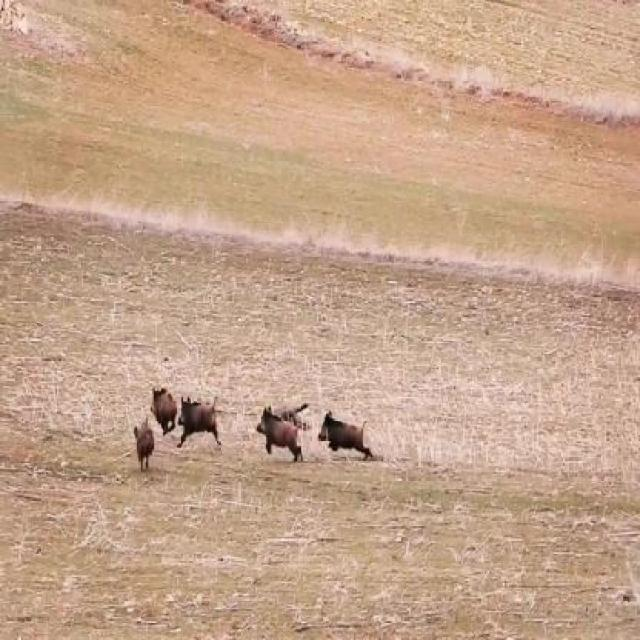Boar: (314, 397, 391, 495), (255, 392, 300, 486), (180, 397, 228, 449), (131, 405, 164, 480), (148, 375, 175, 420)
